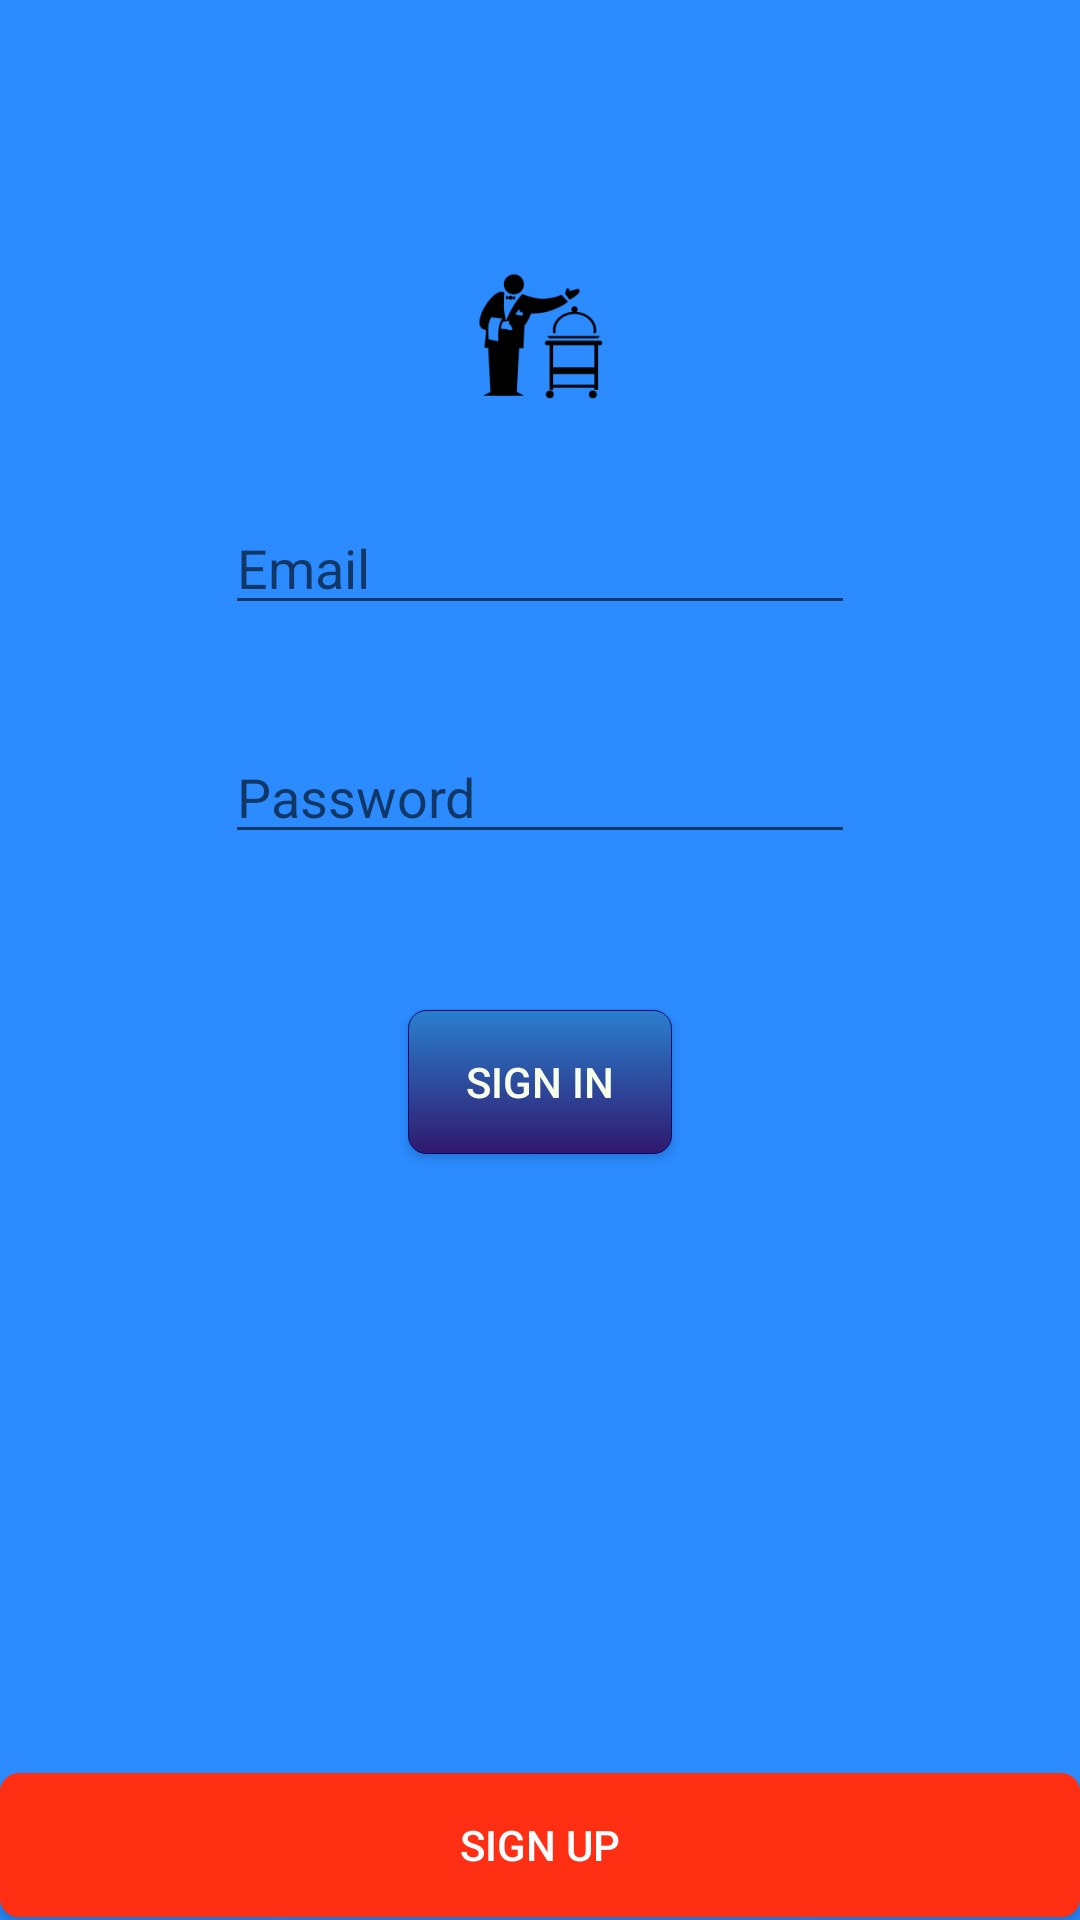

Locate icon controls on the screen. Image size 1080×1920, boxes as {"x1": x1, "y1": y1, "x2": x2, "y2": y2}.
waiter: {"x1": 479, "y1": 274, "x2": 603, "y2": 399}
